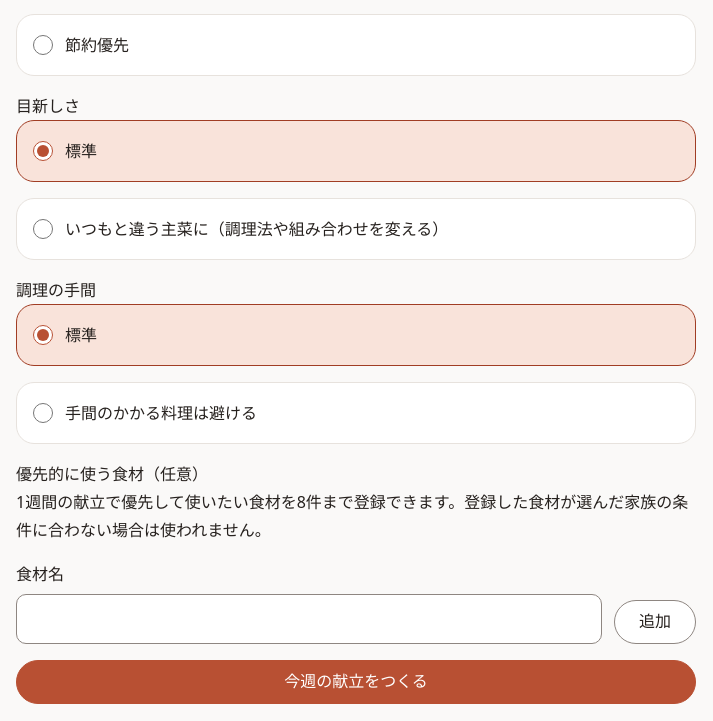
Test: WeeklyPlanFormPage › keeps the API error actionable when metadata removal fails
(page scrolled)
Click the button "今週の献立をつくる" at {"x": 356, "y": 682}, box left=16, top=660, right=696, bottom=704
(page scrolled)
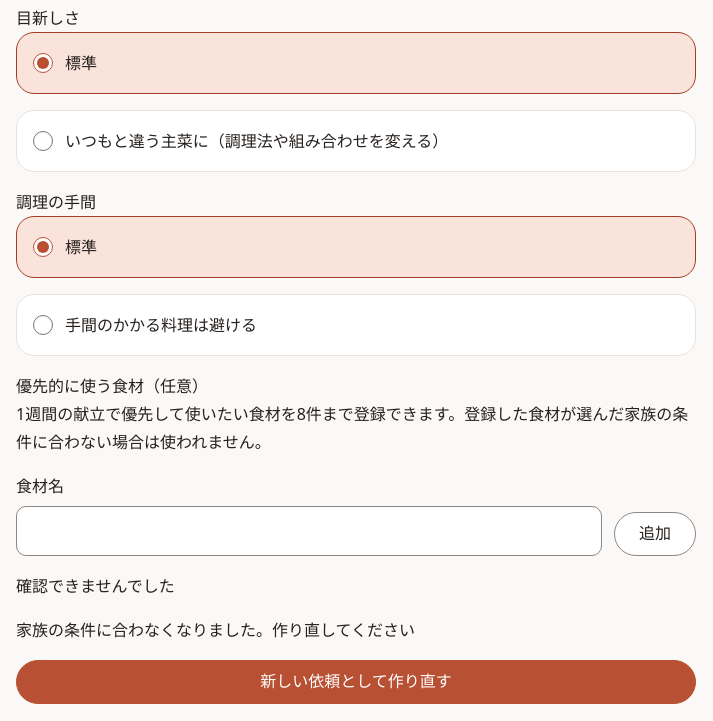
Check: the message reads "確認できませんでした", box left=16, top=575, right=175, bottom=597
